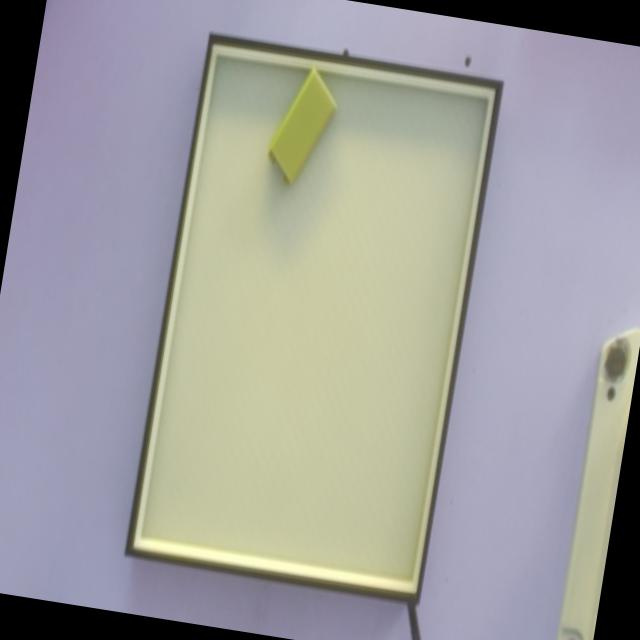bateria: (267, 68, 338, 185)
mesa: (125, 35, 503, 603)
